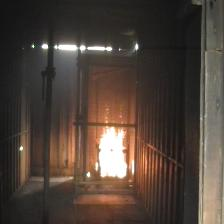fire: (97, 124, 129, 176)
